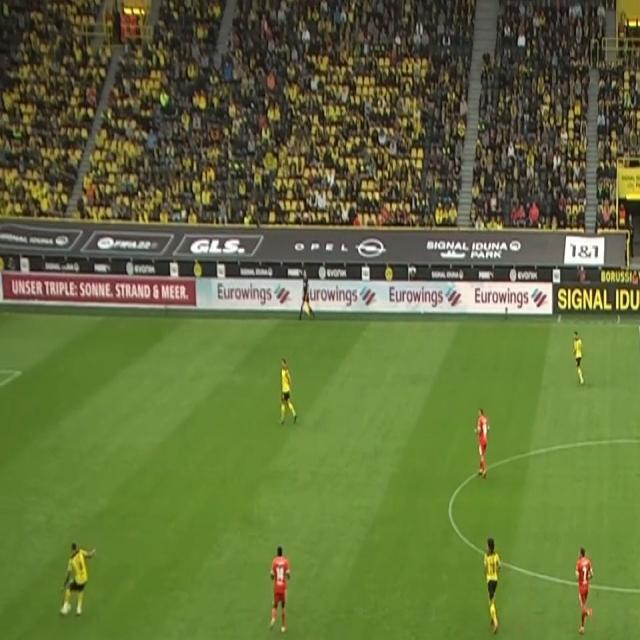ball: (62, 598, 72, 615)
